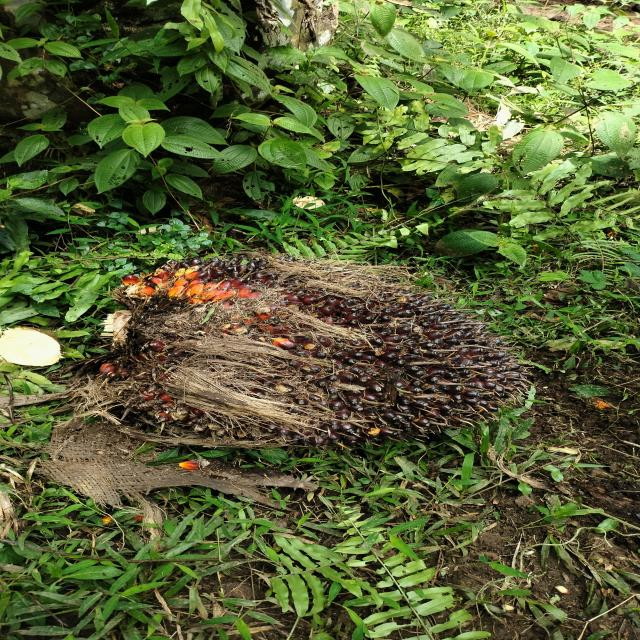fraksi 00: (42, 231, 593, 500)
